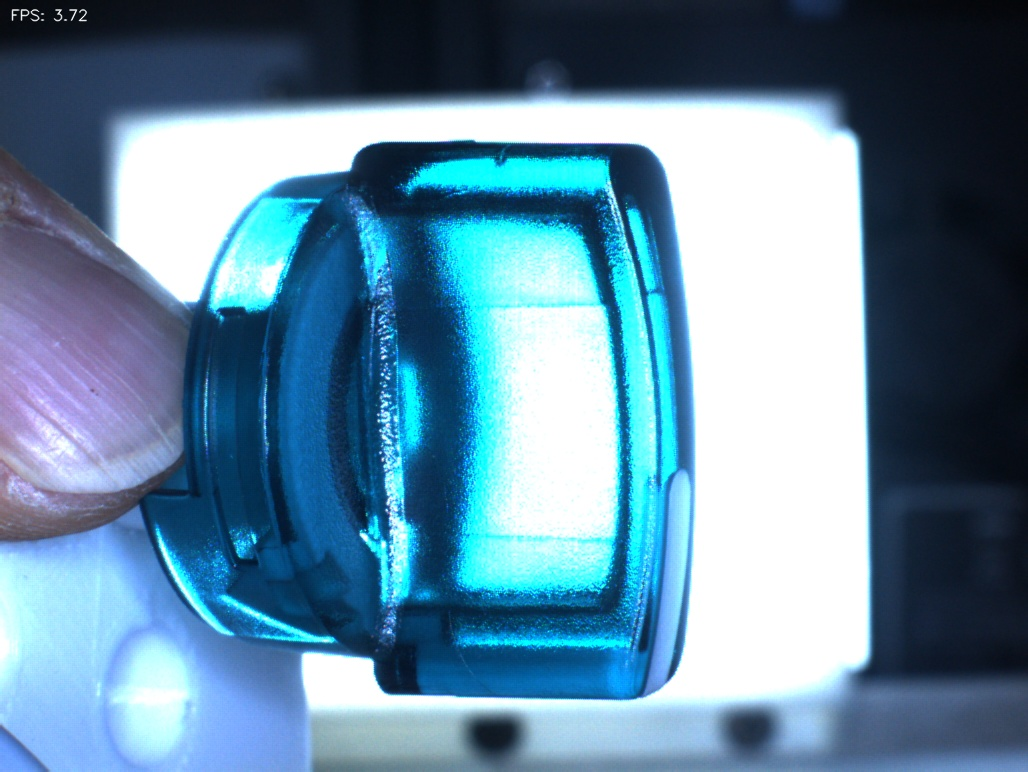Bulle: (467, 116, 542, 201)
